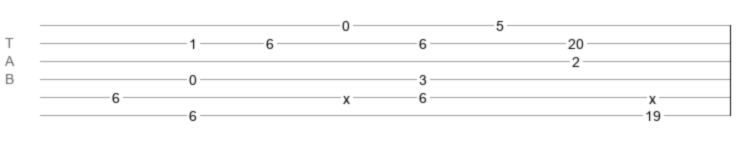0: (189, 72, 197, 82), (342, 18, 350, 28)
1: (189, 36, 197, 46)
19: (645, 108, 661, 118)
2: (572, 54, 580, 64)
20: (568, 36, 584, 46)
3: (419, 72, 427, 82)
5: (496, 18, 504, 28)
6: (112, 90, 120, 100), (189, 108, 197, 118), (266, 36, 274, 46), (419, 36, 427, 46), (419, 90, 427, 100)
x: (343, 91, 350, 99), (649, 91, 656, 99)
